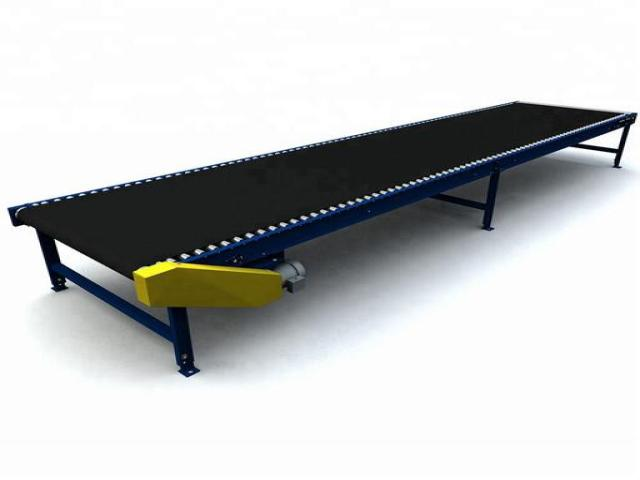conveyor: (5, 97, 639, 378)
